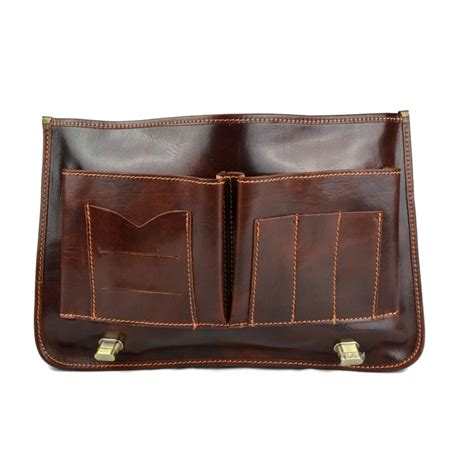cuero: (34, 114, 426, 373)
